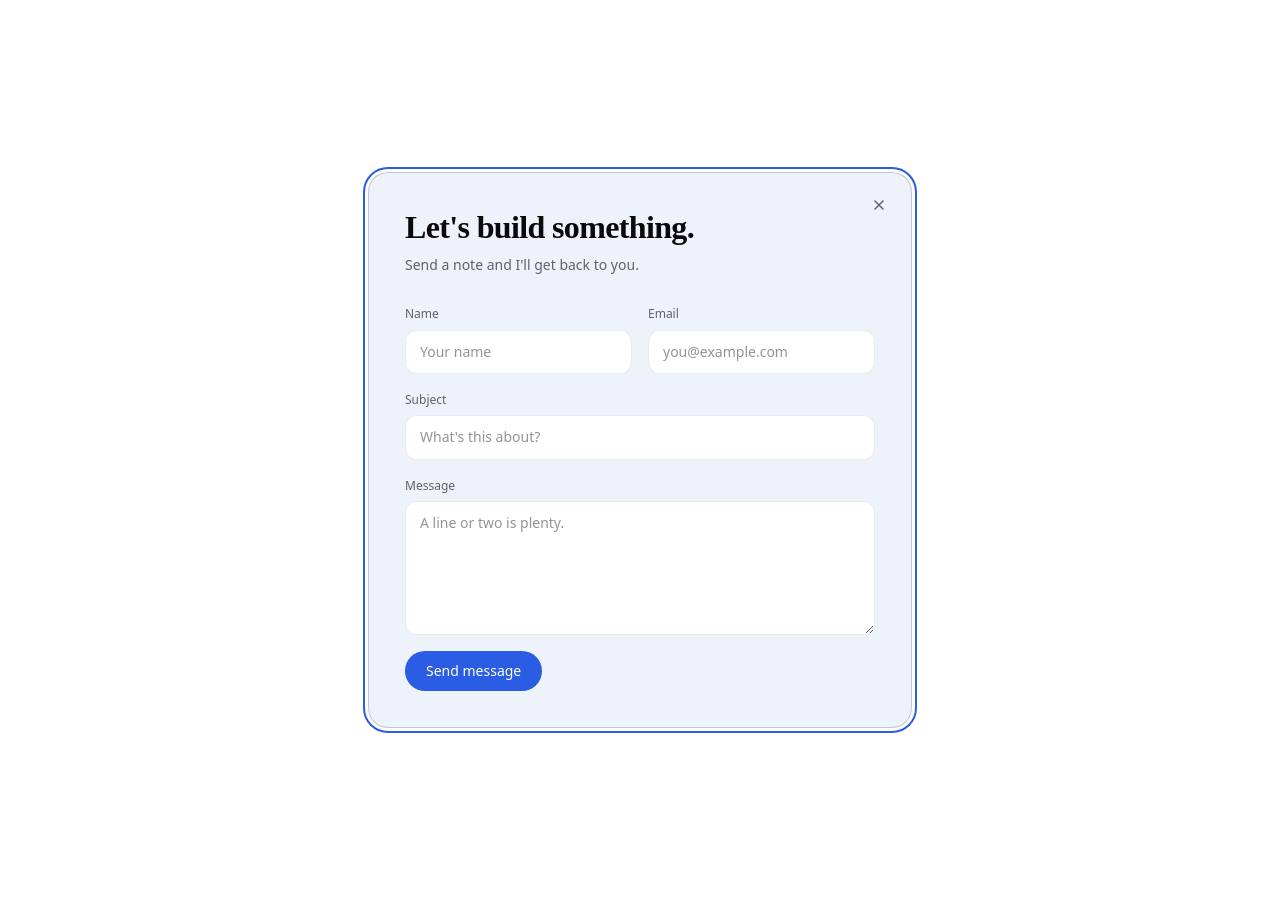
it: ContactModal › surfaces the server error message
Type "Ada" into the field labelled "Name". click: [518, 352]
box: [405,330,632,374]
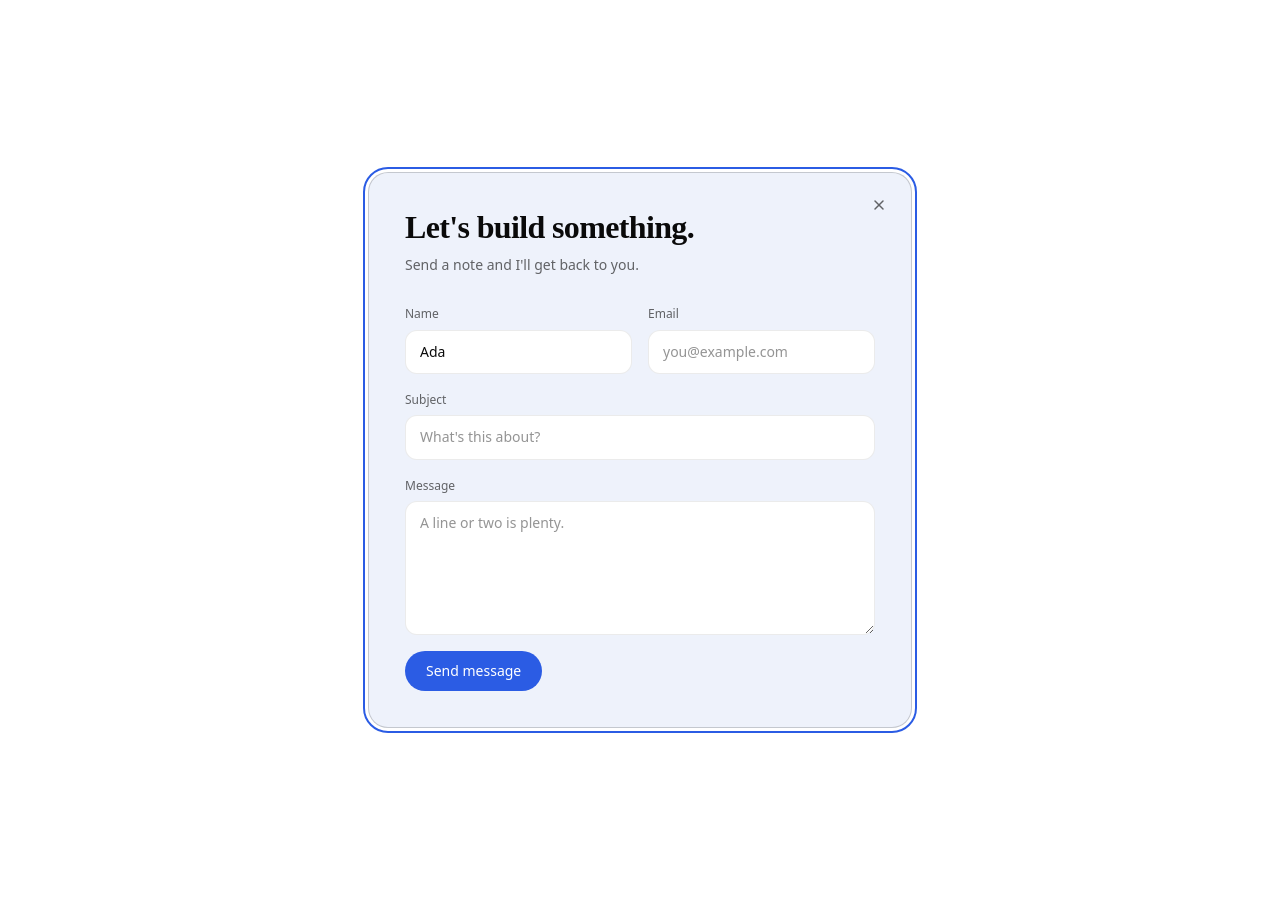
Type "ada@example.com" into the field labelled "Email". click: [762, 352]
box: [648,330,875,374]
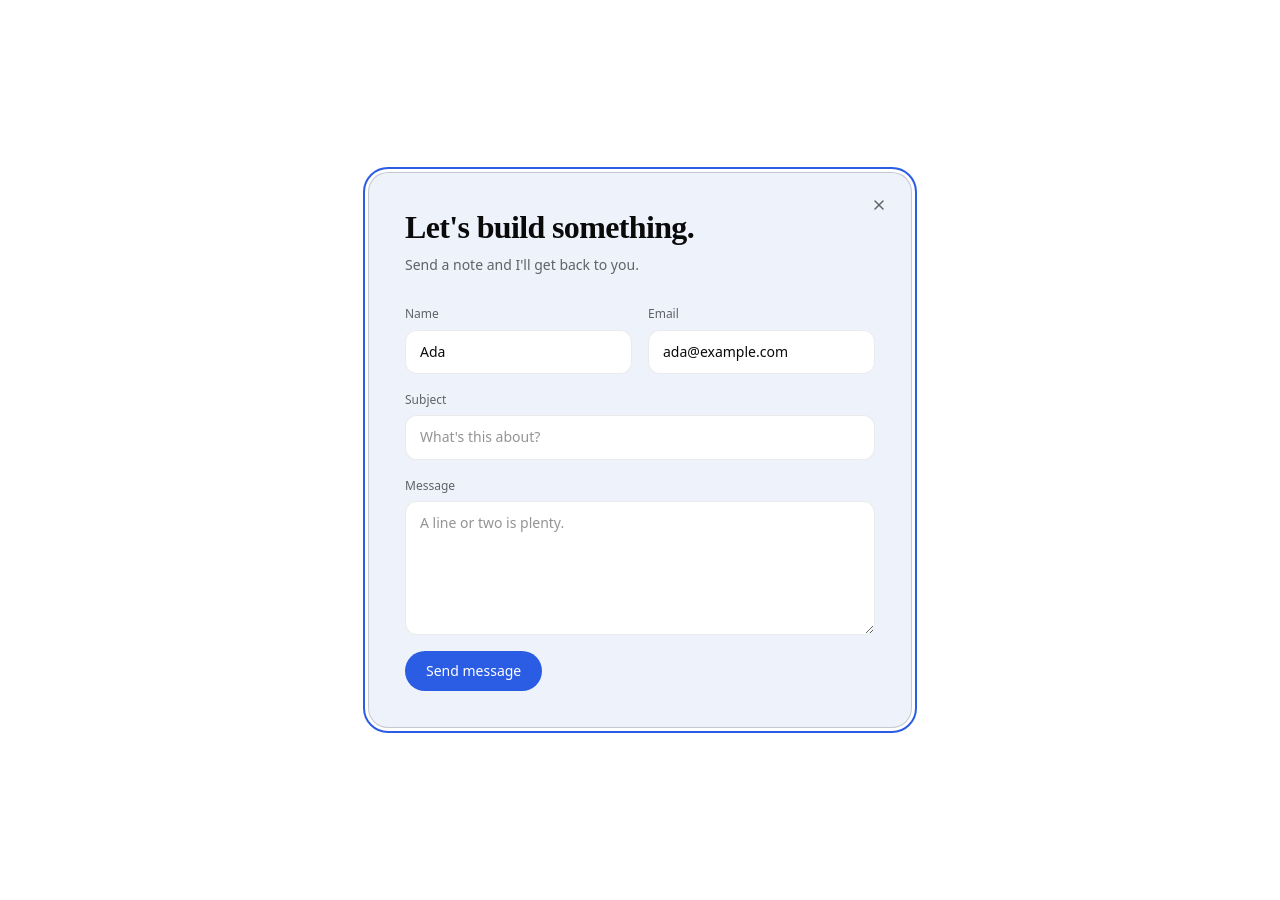
Type "Hello" into the field labelled "Subject". click: [640, 437]
box: [405,415,875,460]
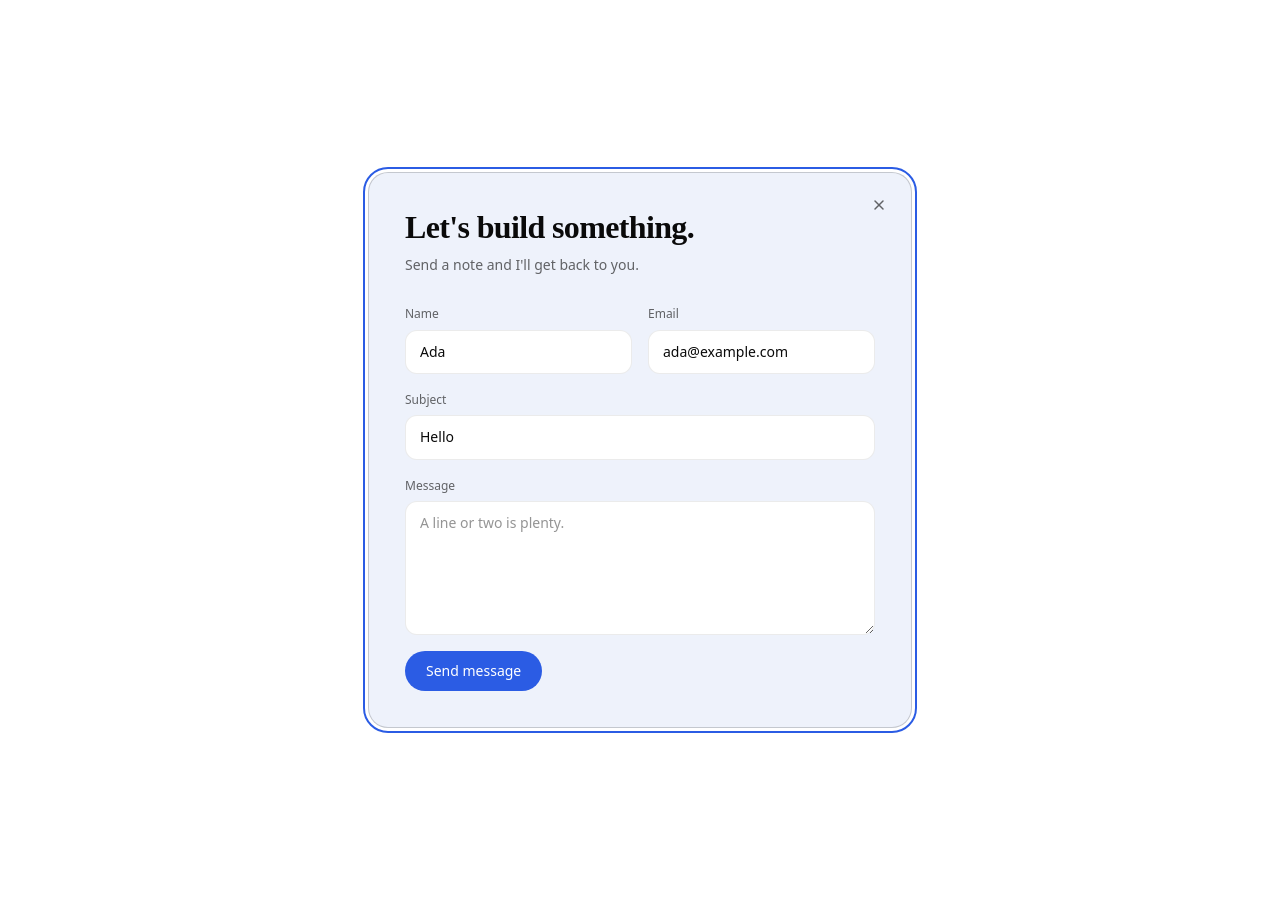
Type "Hi there" into the text box labelled "Message". click: [640, 568]
box: [405,501,875,635]
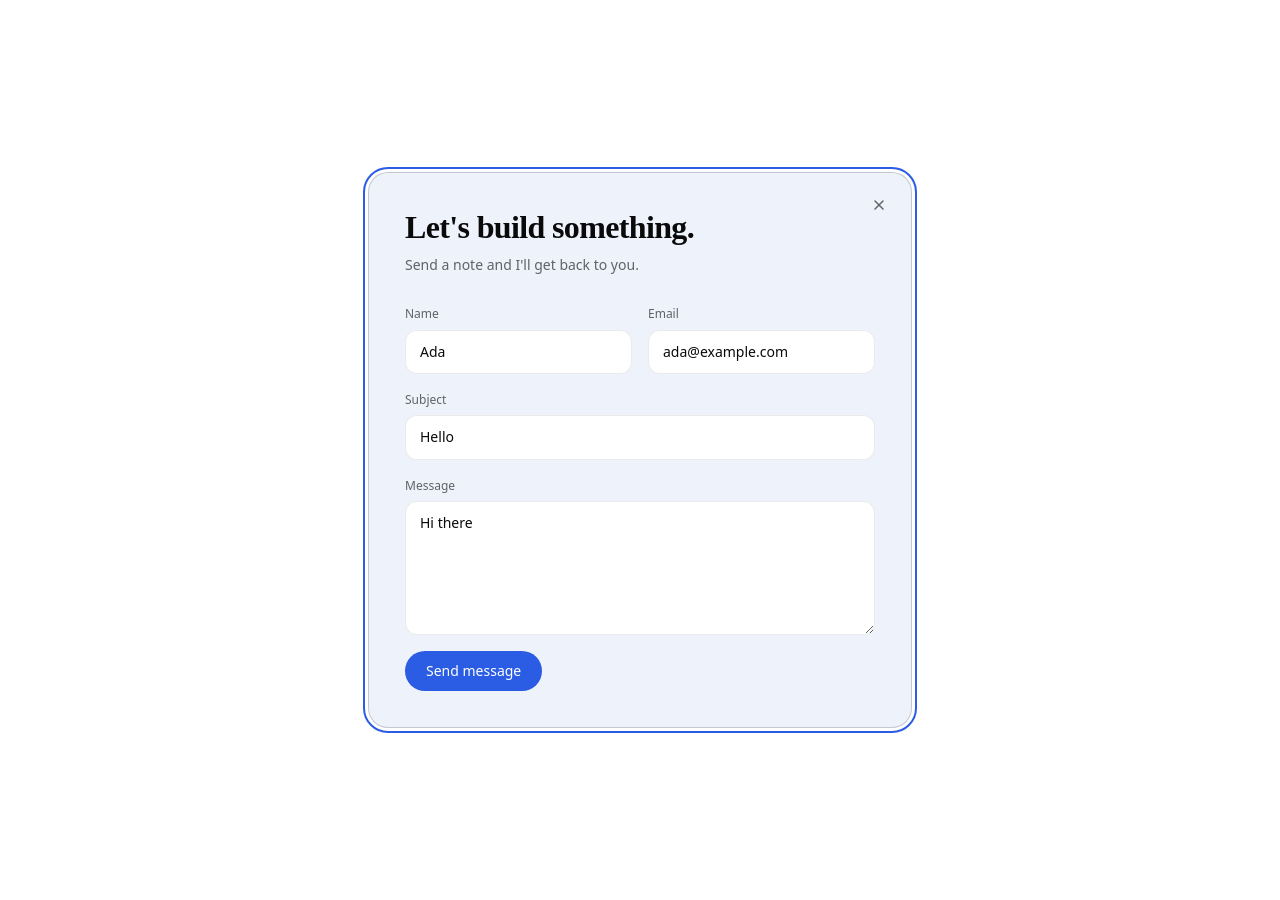
Submit the form with test id "contact-modal-form", box [405,304,875,691]
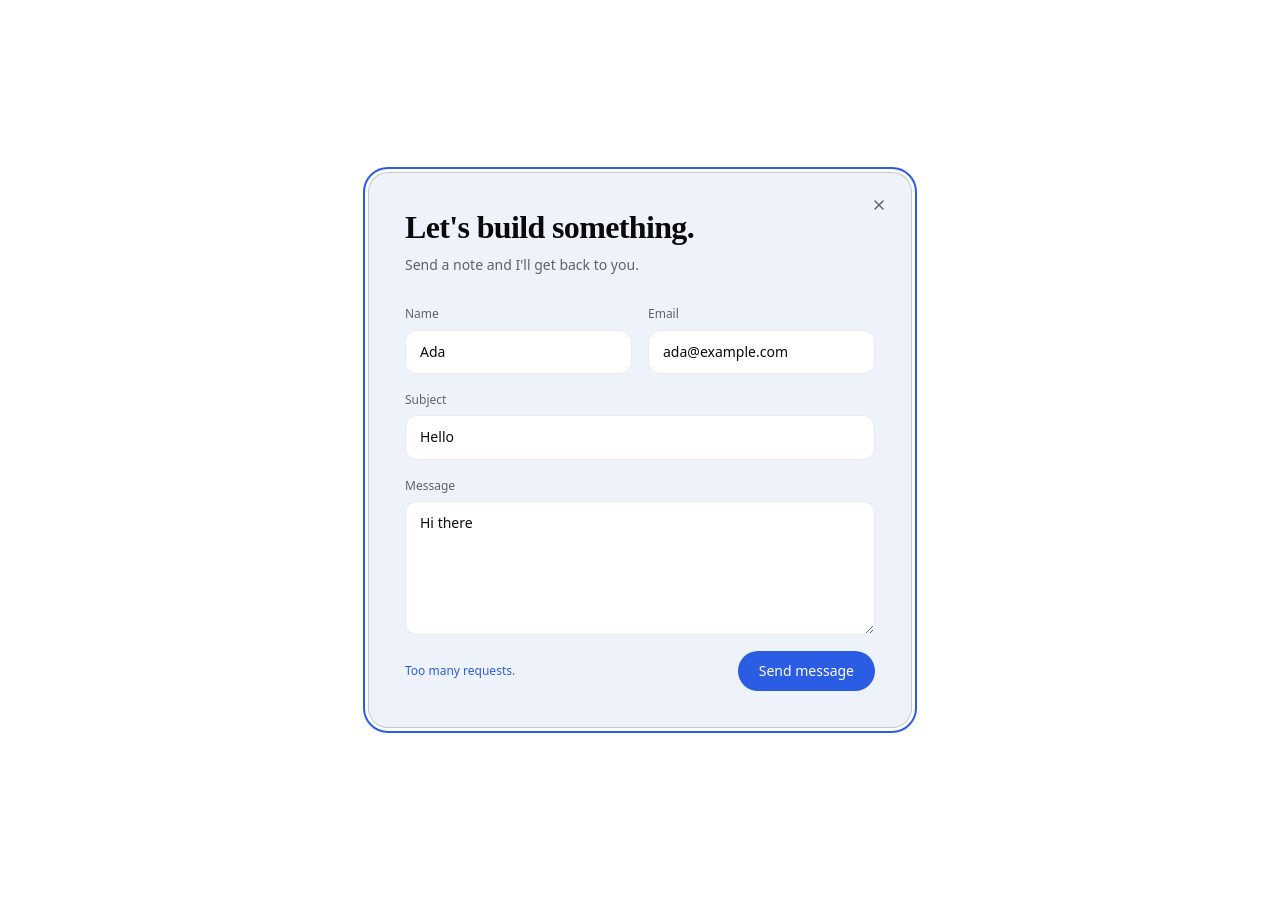
Expected: the message reads "Too many requests.", [405,662,515,679]
